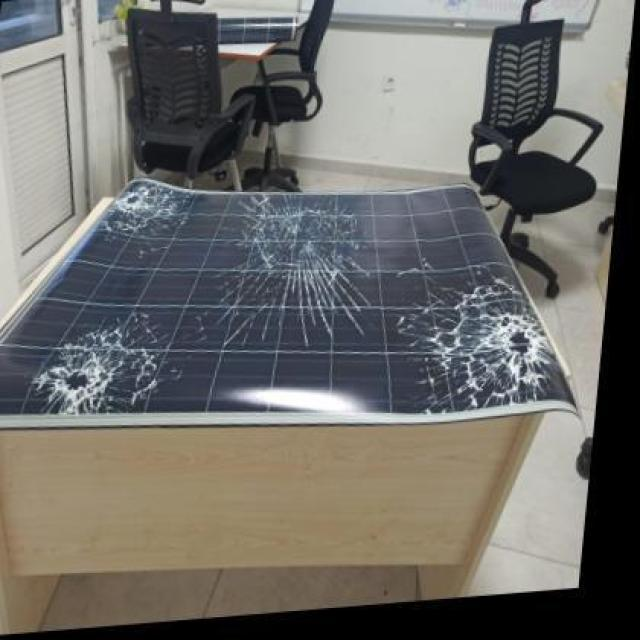cracked: (4, 175, 590, 431)
